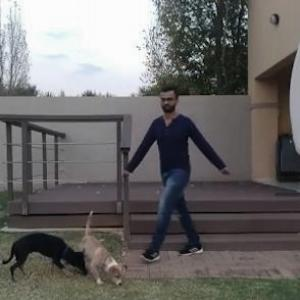land: (122, 90, 232, 270)
